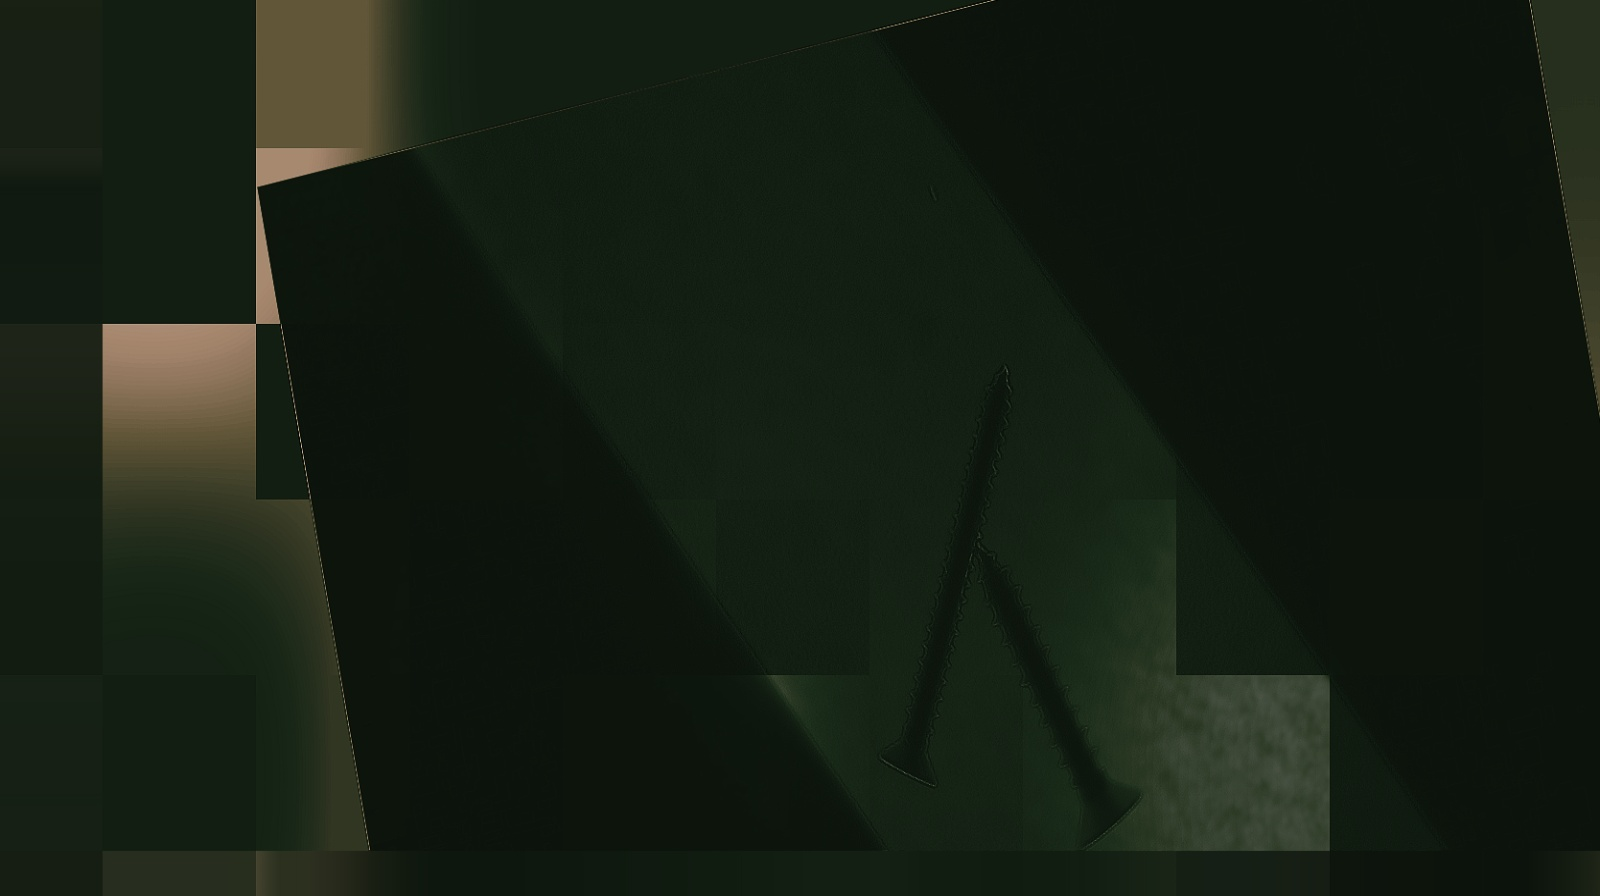S001: (979, 505, 1152, 863)
S002: (815, 358, 1075, 801)
